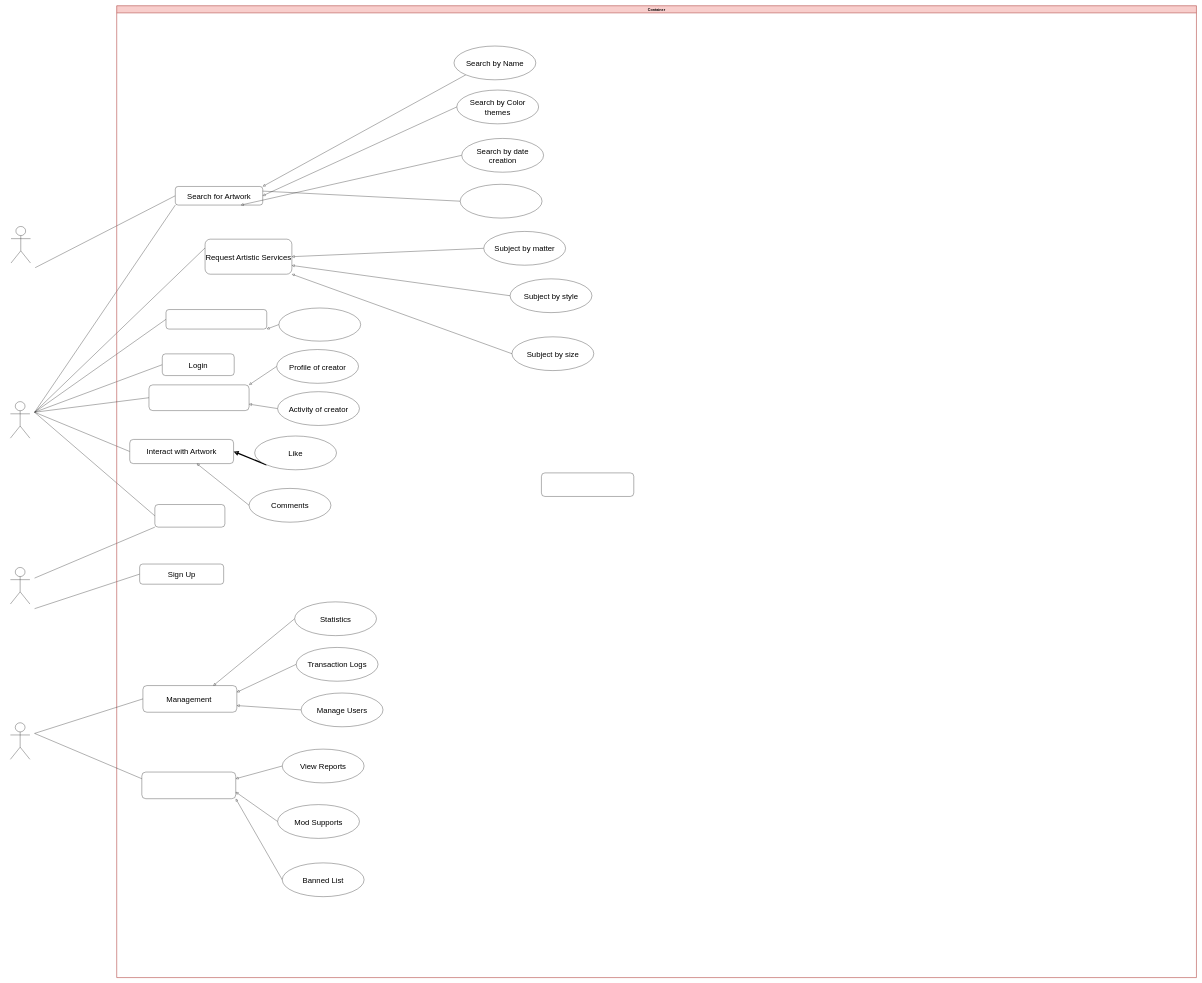
The diagram is 1202 pixels wide and 983 high, and some of its shapes have lost their labels. The shapes that lost their labels are listed below. From the top down, each one's box as (x1, y1, x2, y2) in pixels, then its label:
(460, 184, 542, 218): Search By category
(11, 226, 31, 263): Creator
(166, 309, 267, 329): Purchase Premium ArtWork
(279, 308, 361, 341): Purchase with Paypal
(149, 385, 249, 411): Follow Favorite Creators
(10, 401, 30, 438): Audience
(541, 473, 634, 496): Receive Notifications
(155, 504, 225, 527): View ArtWork
(10, 567, 30, 604): Guest
(10, 722, 30, 759): Admin
(142, 772, 236, 799): Moderator
